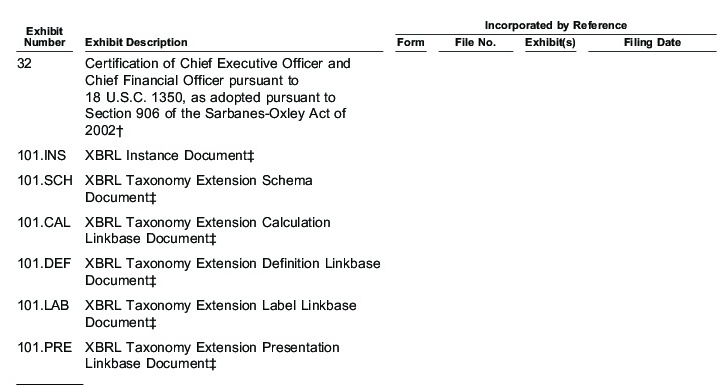table: (0, 0, 728, 386)
